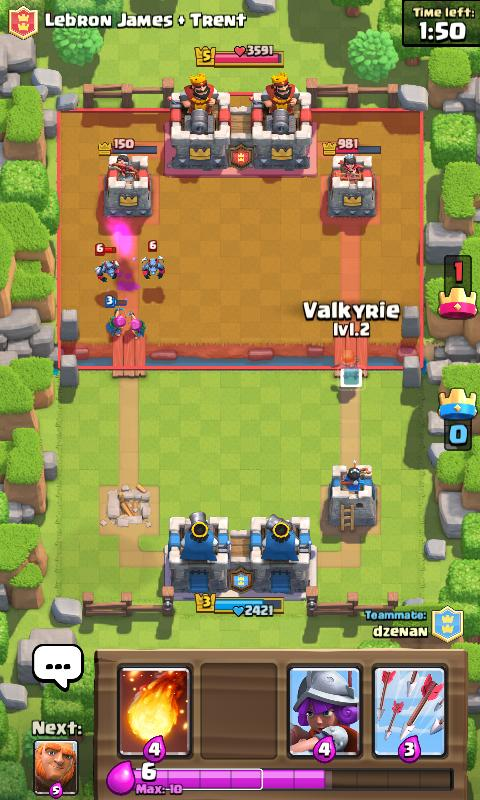ally_archer: (102, 294, 126, 336), (127, 309, 146, 338)
enemy_minion: (93, 241, 120, 283), (139, 239, 165, 280)
